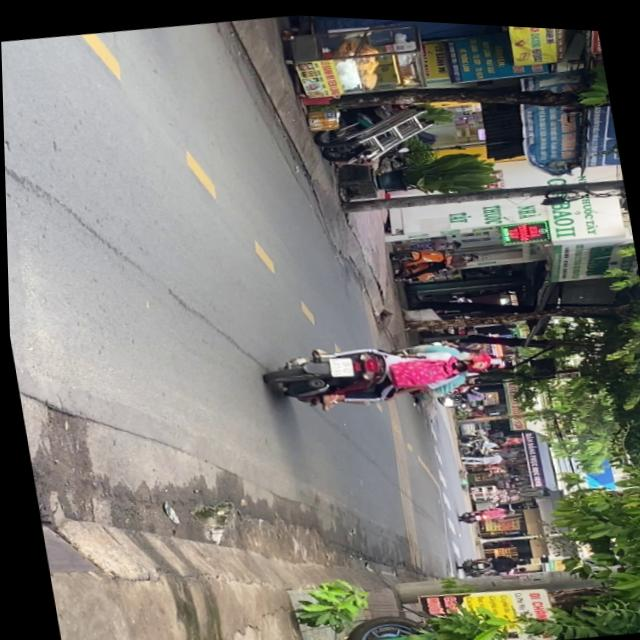helmet: (457, 344, 493, 370)
licenseplate: (259, 316, 510, 423)
nohelmet: (326, 352, 352, 374)
